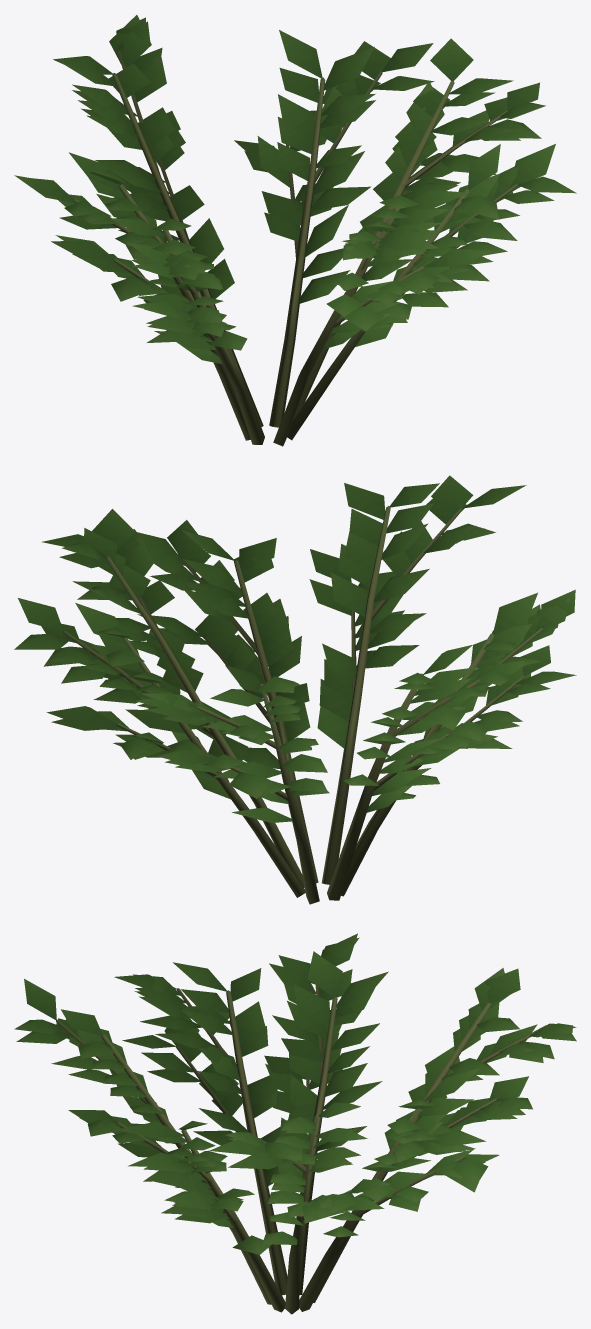
File: shrub-laurel.lod0.glb
3 views of the same model, one above another, from view 1: azimuth 30°, elevation 25°; view 2: azimuth 150°, elevation 25°; view 3: azimuth 270°, elevation 25° (orthographic). The views are drawn at different scales.
Parts seen in each view (by area): view 1: shrub_laurel_mesh; view 2: shrub_laurel_mesh; view 3: shrub_laurel_mesh.
Part boxes in pixels (x1,y1,x2,y2): shrub_laurel_mesh: (14,15,576,446); shrub_laurel_mesh: (14,475,576,904); shrub_laurel_mesh: (14,933,576,1314).
Bounding box in the file's own units: 1.52 × 0.9358 × 1.6.
Materials: 1 (1 with a texture image).
